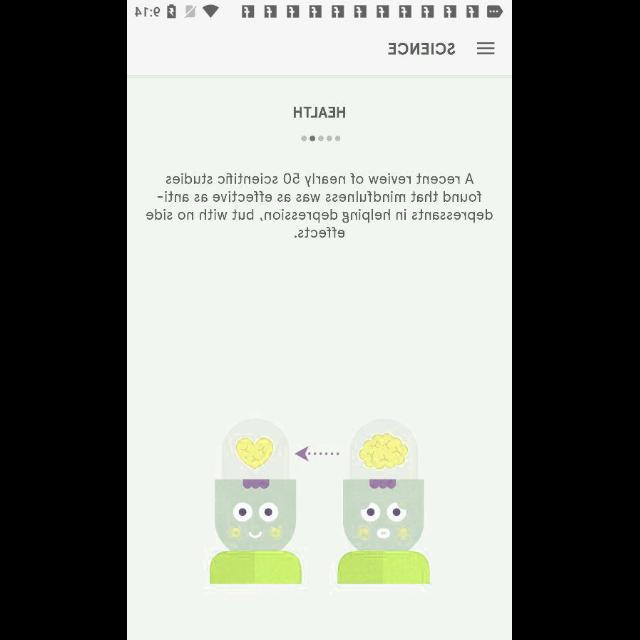icon: (476, 42, 496, 56)
image: (211, 417, 431, 583)
pageindicator: (301, 136, 341, 142)
text: (146, 173, 494, 239), (388, 42, 456, 56), (294, 107, 346, 119)
toolbar: (128, 19, 512, 76)
uppertaskbar: (128, 1, 512, 20)
